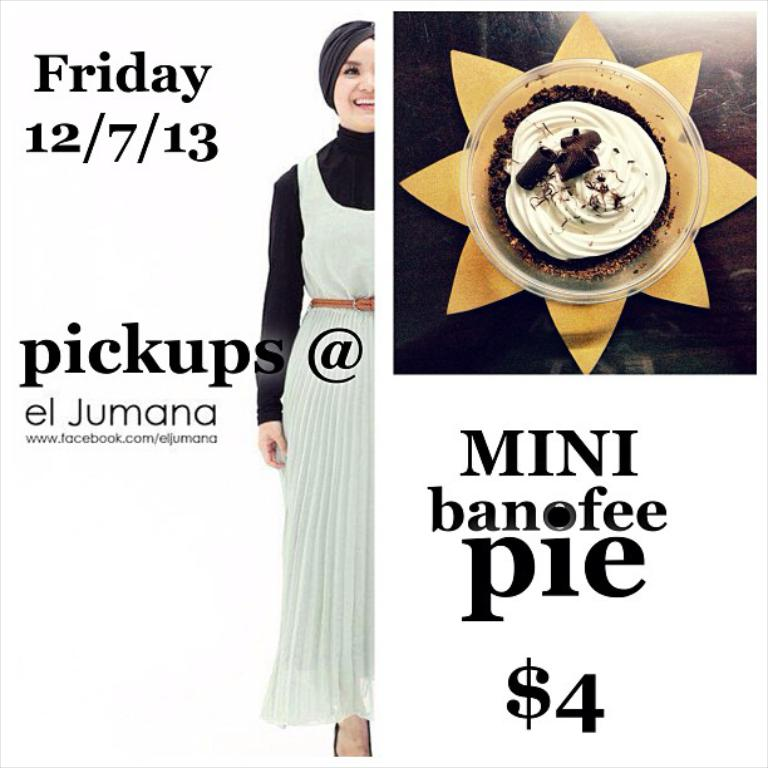Footwear: (330, 727, 374, 759)
